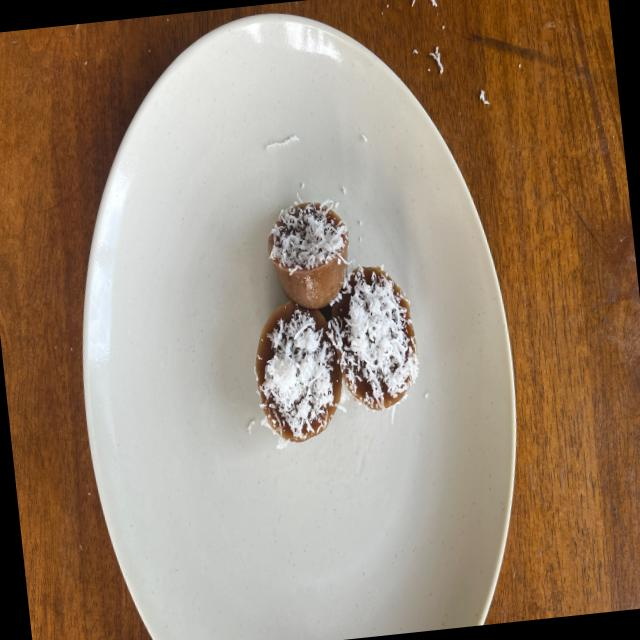Kuih lompang: (330, 266, 418, 410), (255, 303, 342, 441), (267, 201, 348, 309)
